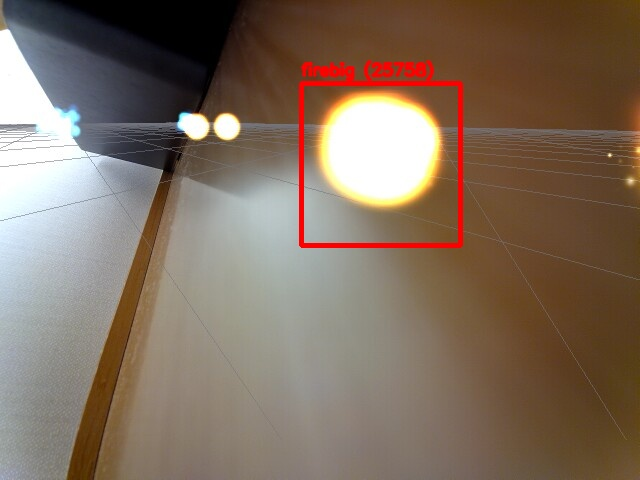firebig: (301, 83, 460, 245)
